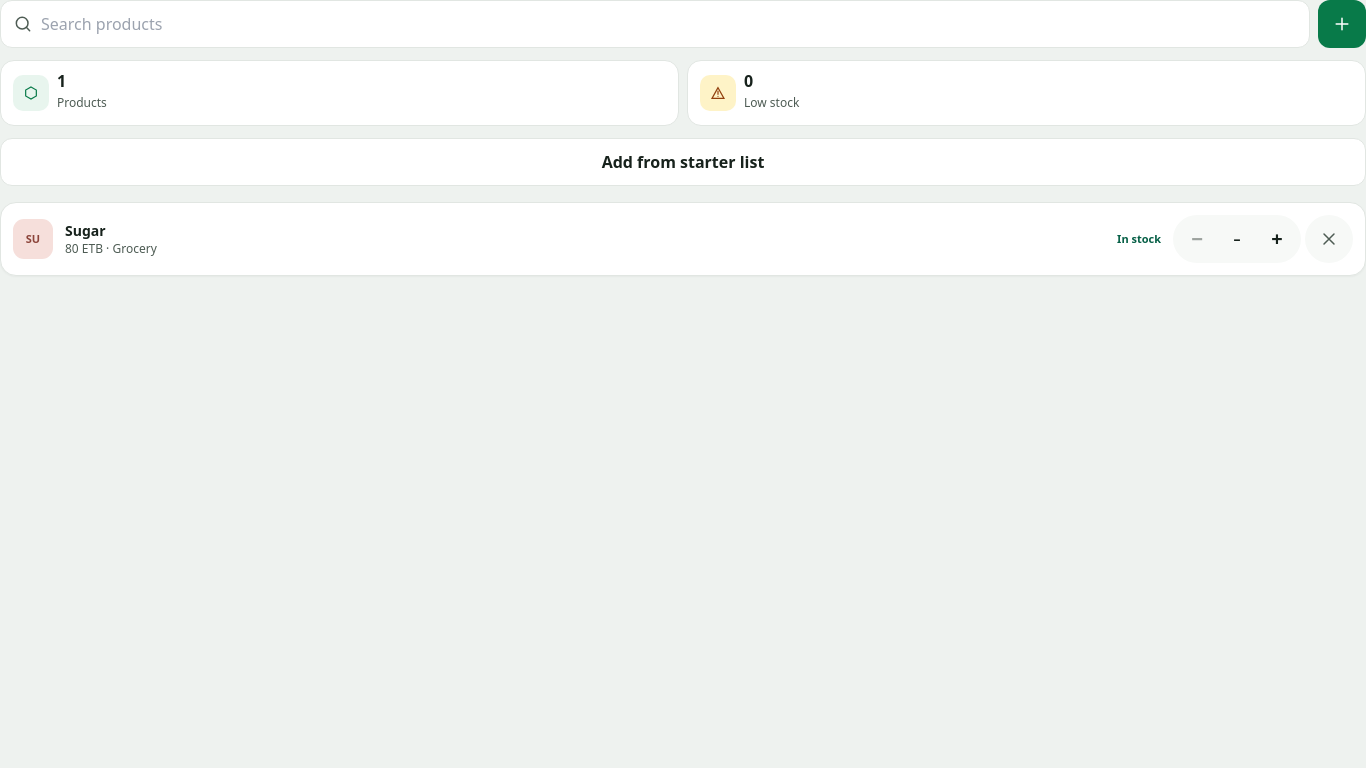
Test case: items screen › disables starter items that are already in the shop and applies the rest
Click the button "Add from starter list" at [683, 162], box [0, 138, 1365, 186]
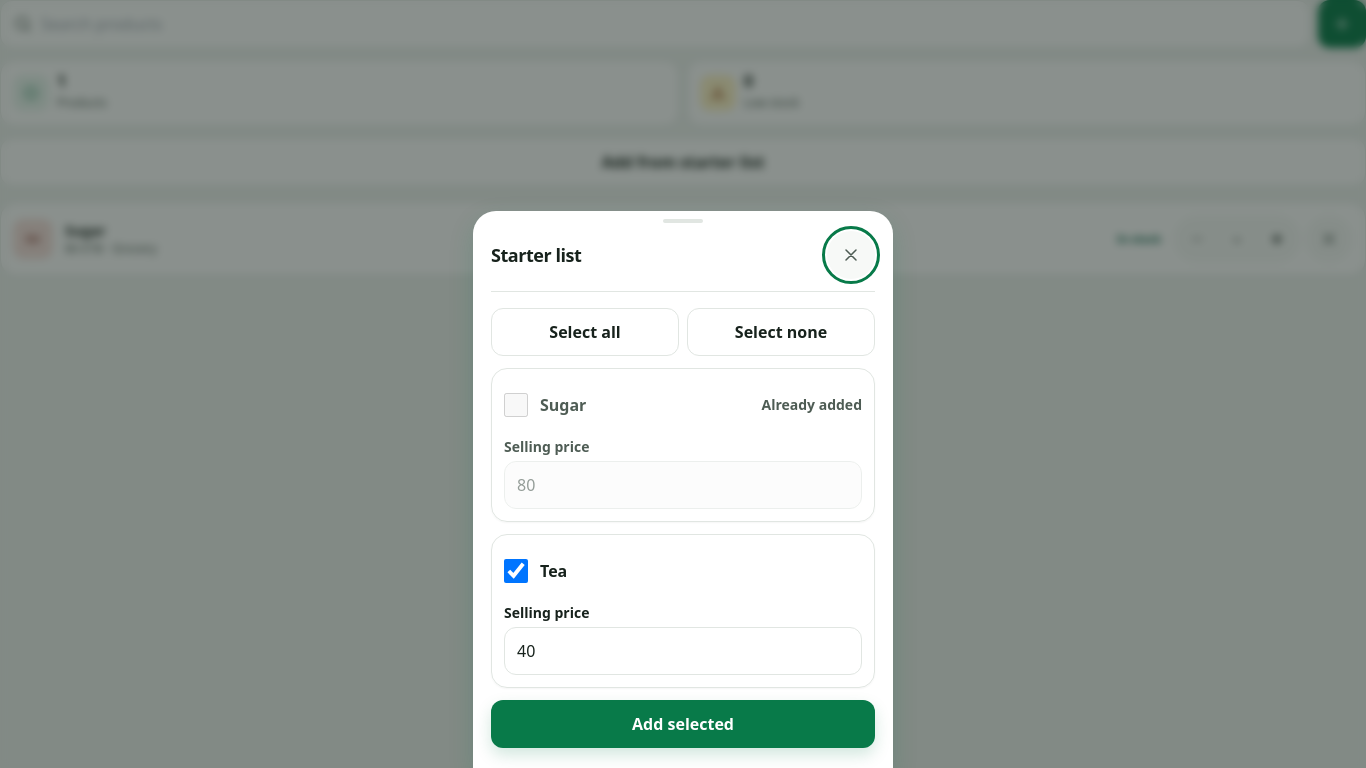
Now the checkbox labelled "Sugar Already added" is disabled, box [504, 393, 528, 417]
Now the checkbox labelled "Sugar Already added" is not checked, box [504, 393, 528, 417]
Now the text "Already added" is shown, box [762, 395, 862, 415]
Click the button "Select none" at [781, 332], box [687, 308, 875, 356]
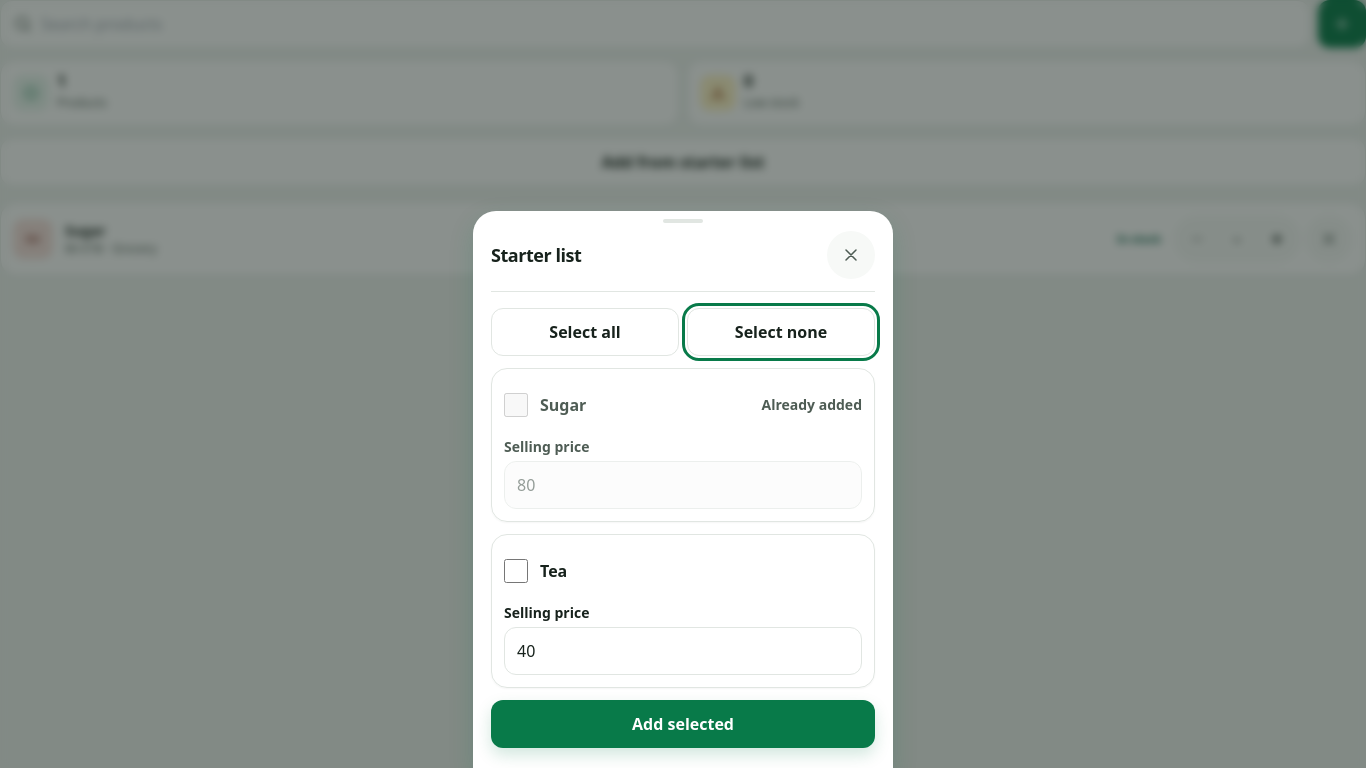
Click the button "Add selected" at [683, 724], box [491, 700, 875, 748]
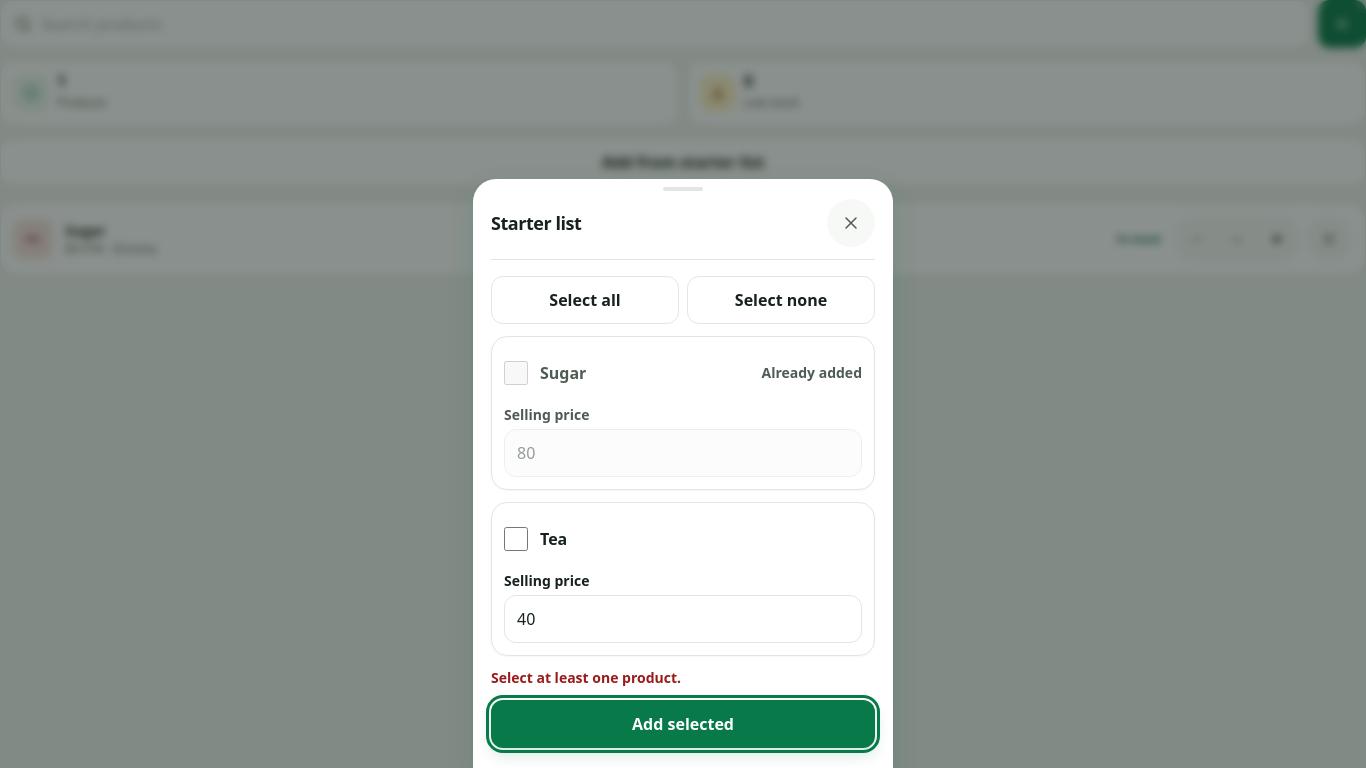
Now the text "Select at least one product." is shown, box [491, 668, 681, 687]
Click the button "Select all" at [585, 300], box [491, 276, 679, 324]
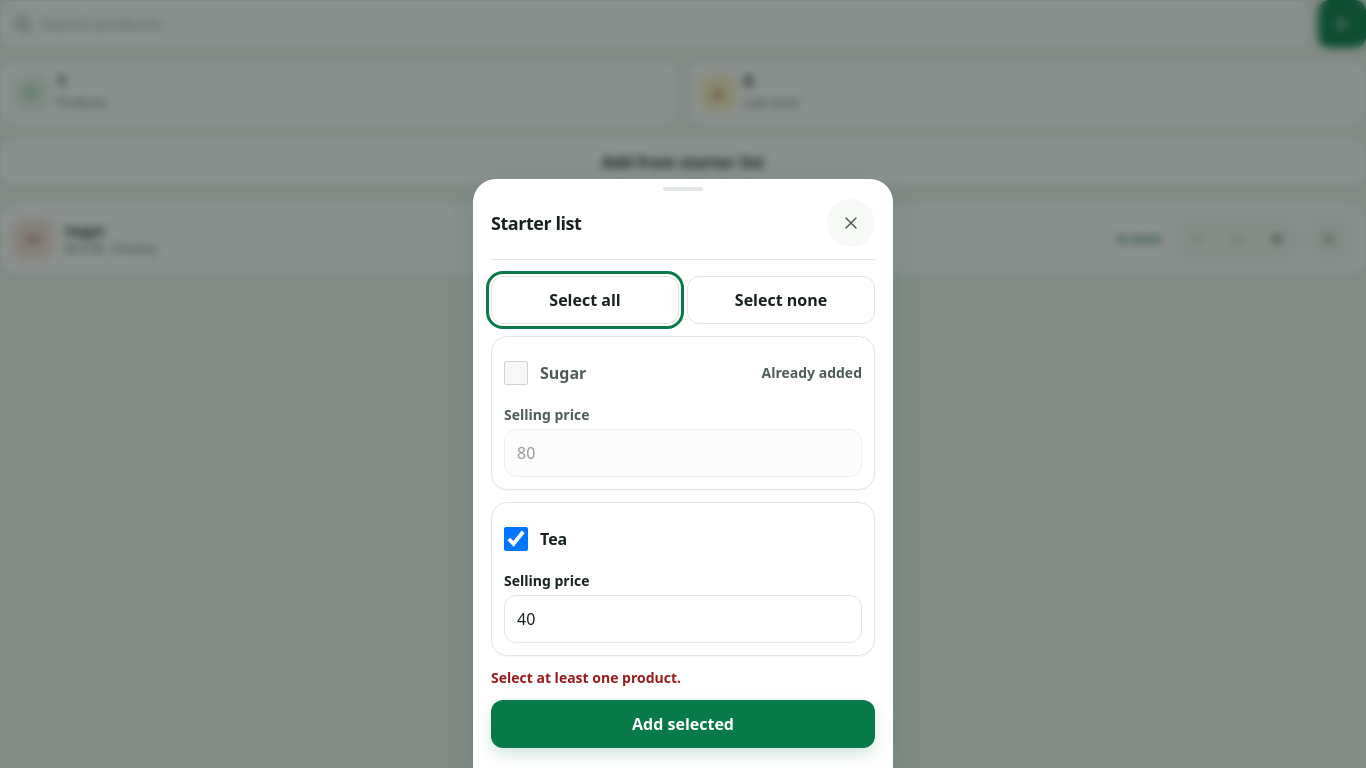
Now the checkbox labelled "Sugar Already added" is disabled, box [504, 361, 528, 385]
Now the checkbox labelled "Tea" is checked, box [504, 527, 528, 551]
Click the button "Add selected" at [683, 724], box [491, 700, 875, 748]
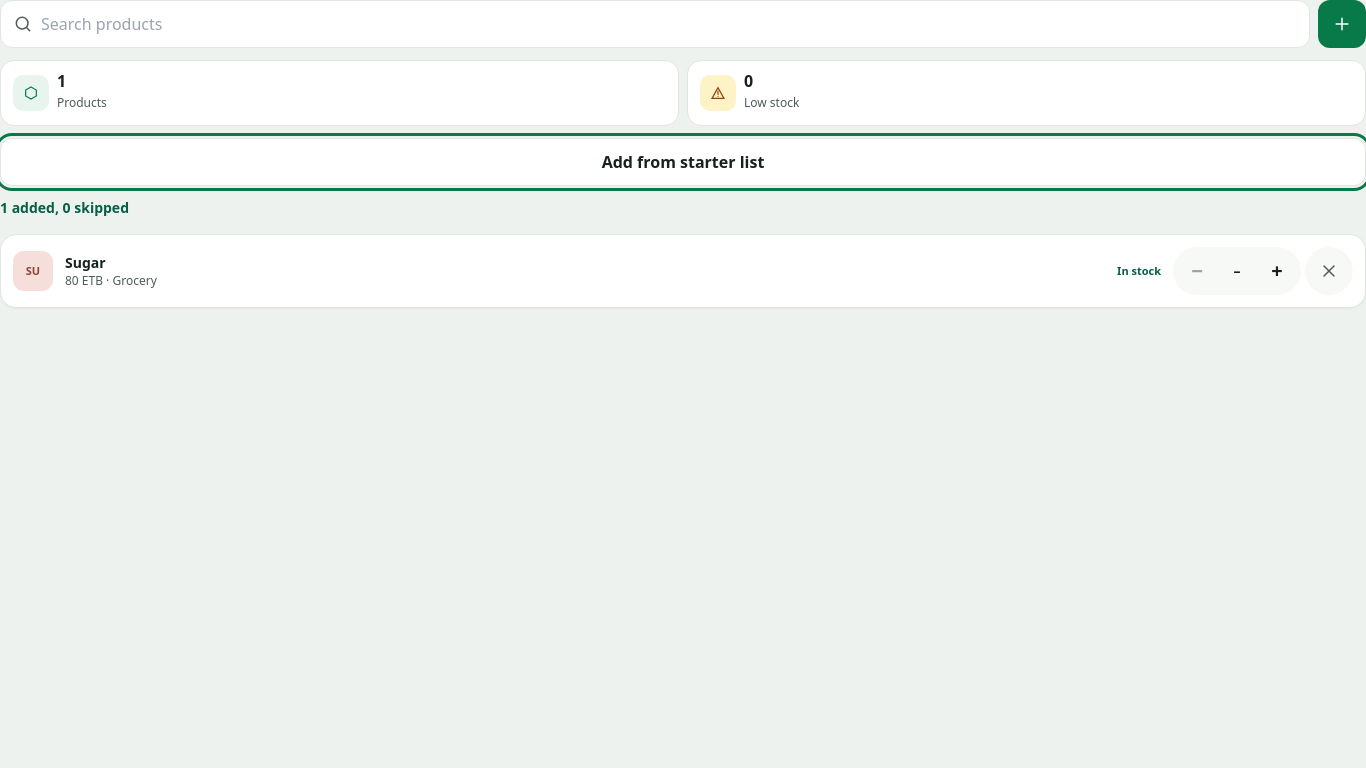
Now the text "1 added, 0 skipped" is shown, box [0, 198, 129, 217]
